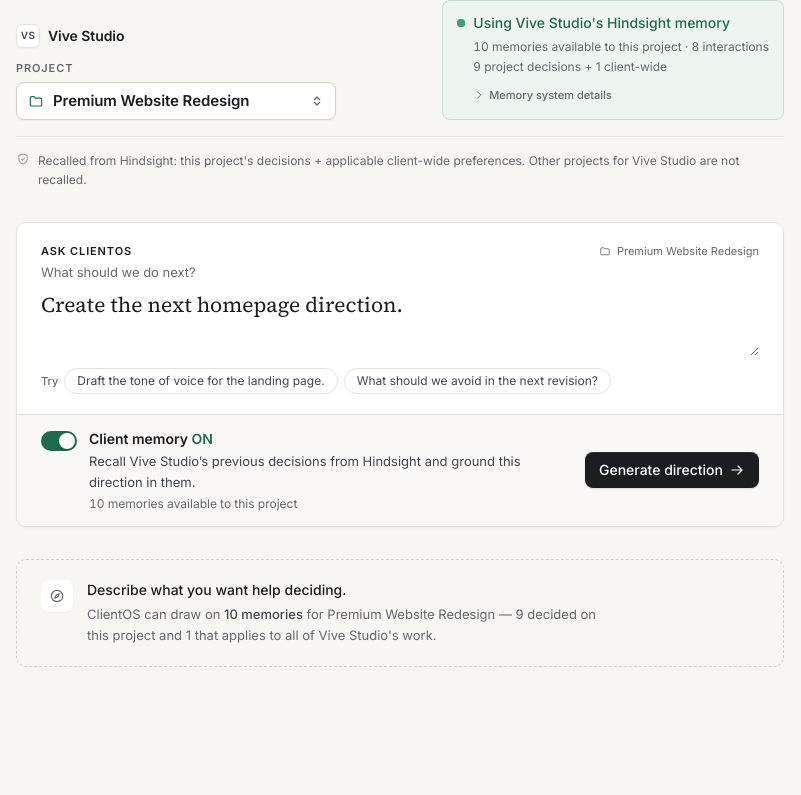
Scenario: AIWorkspace — memory off › generating with memory off uses no client history
Check: the dropdown labelled "Project" is shown, box [16,82,336,120]
Step 1. Click the checkbox labelled "Client memory" → (305, 470), box [41,429,569,512]
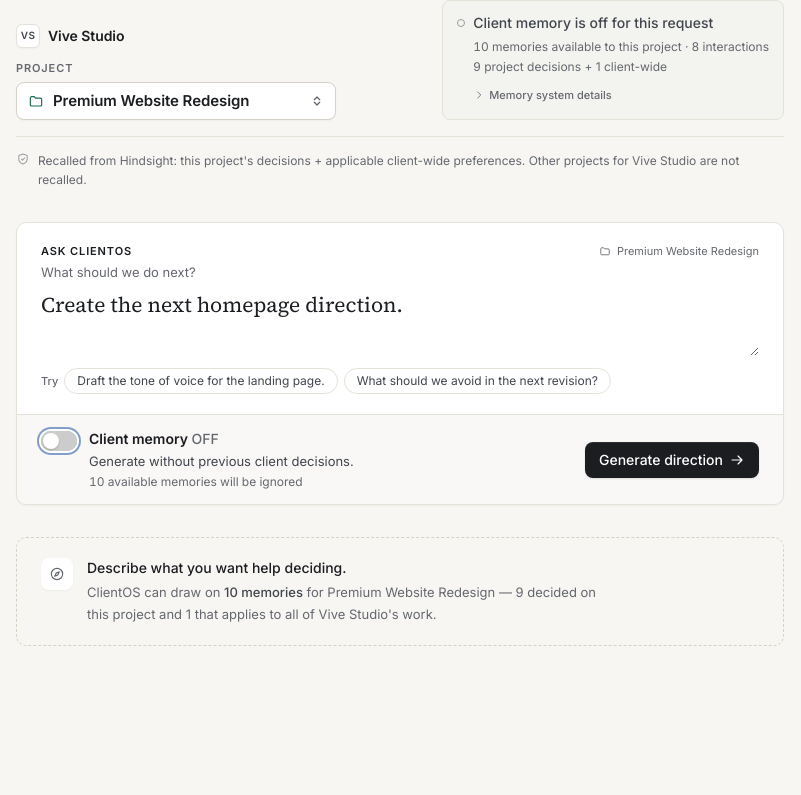
Step 2. Click the button "Generate direction" → (672, 460), box [585,442,759,478]
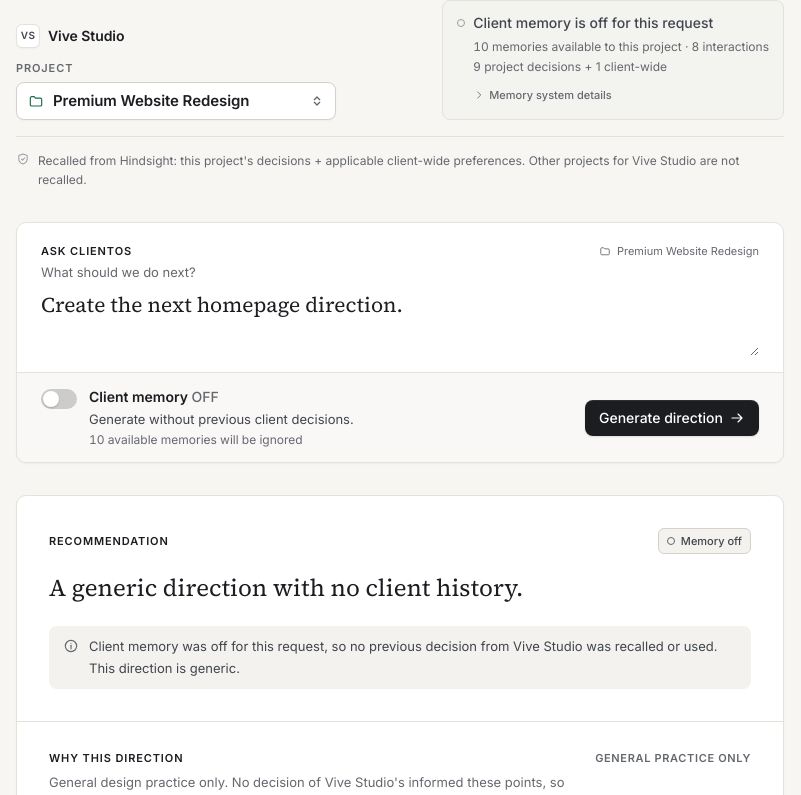
Check: the text "Memory off" is shown, box [658,528,751,554]
Check: the text "no previous decision from Vive Studio was recalled or used" is shown, box [89,636,737,679]
